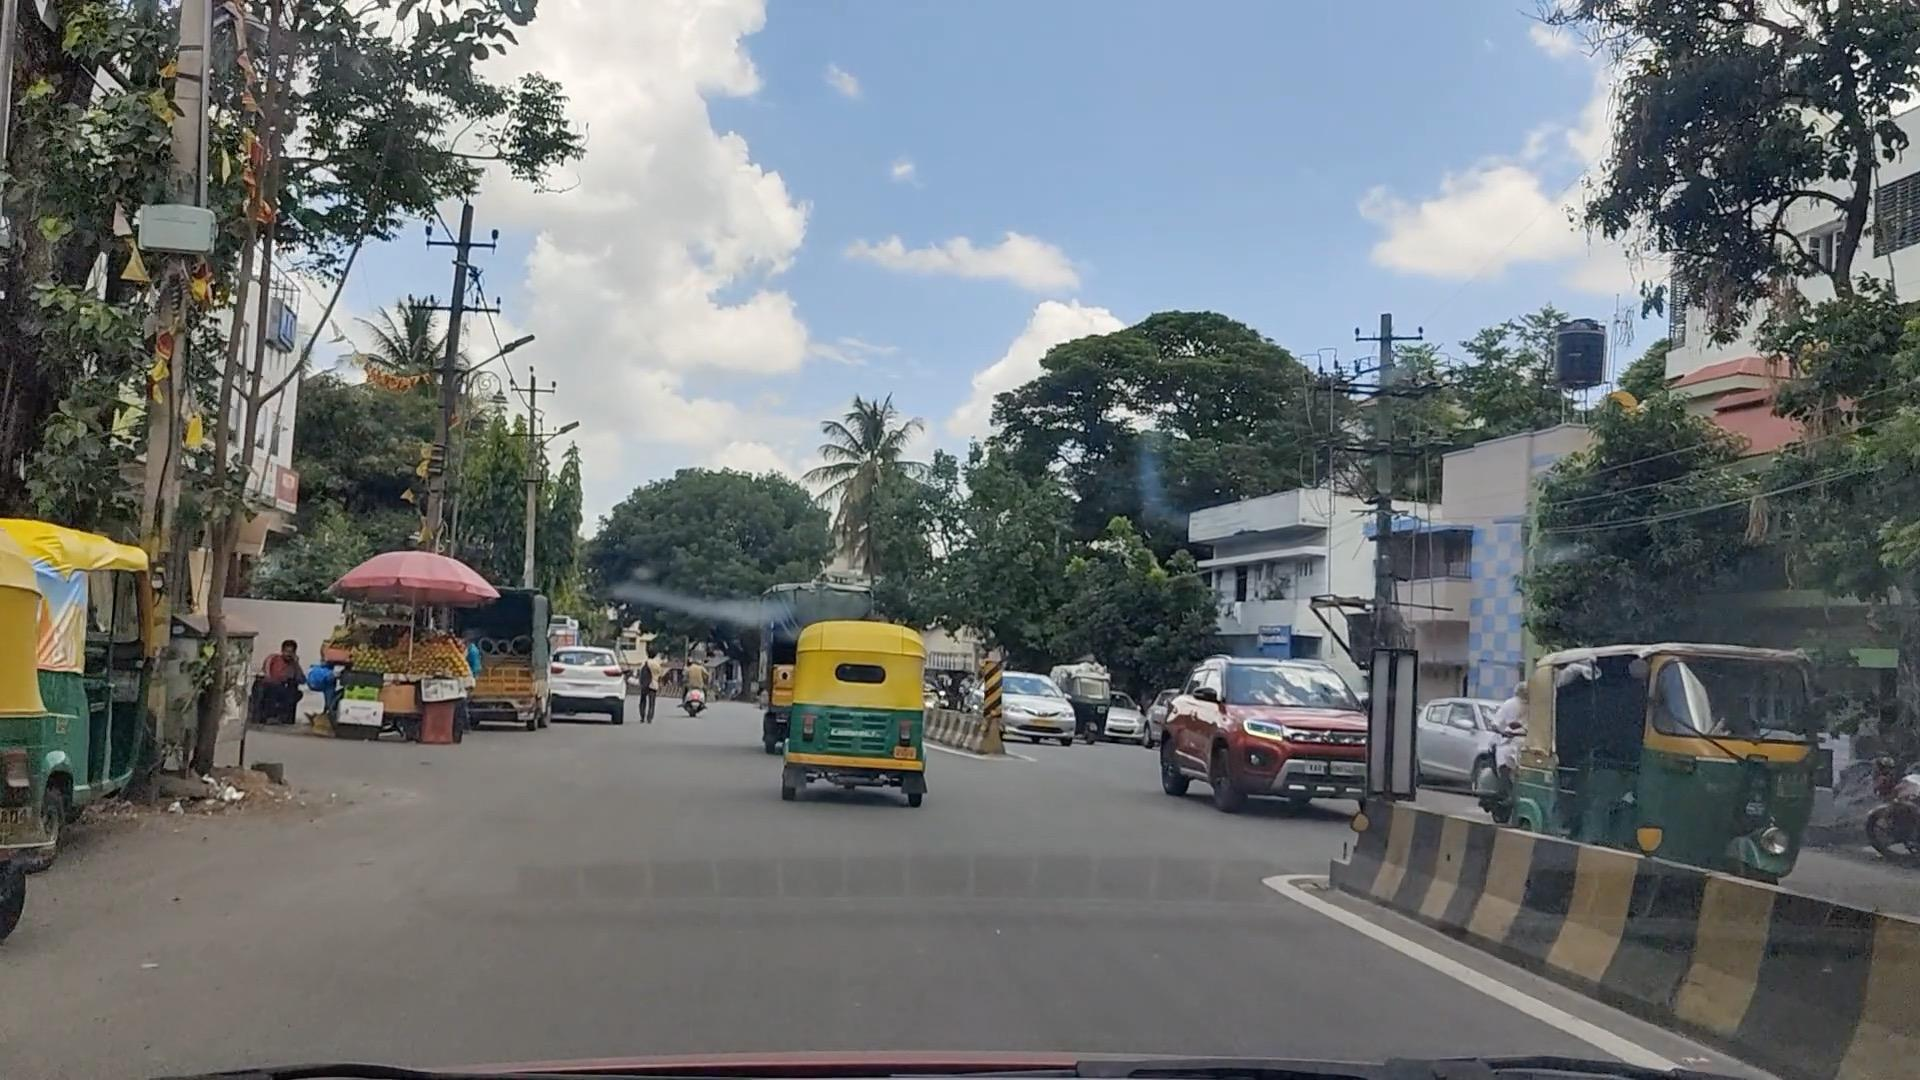LMV: (787, 620, 923, 815)
